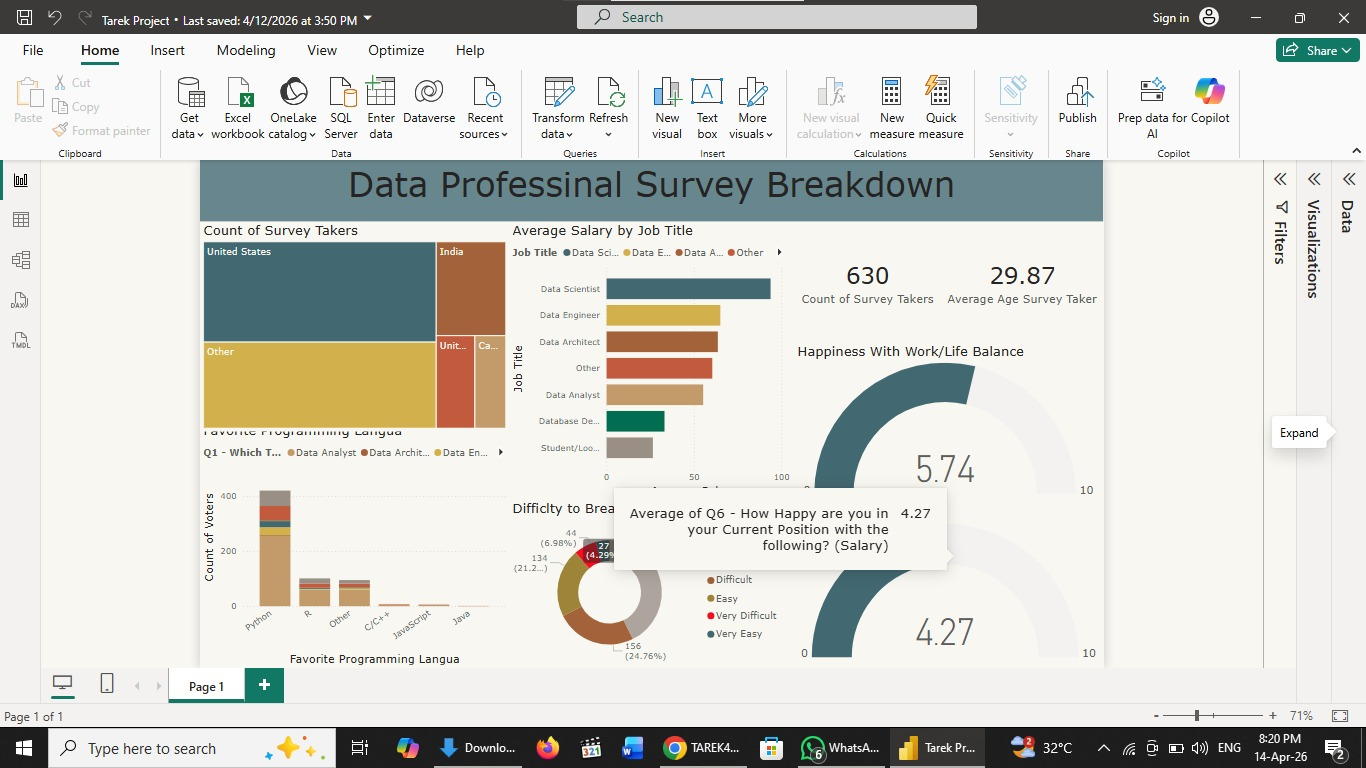

What the dashboard file says about the page in this screenshot:
{"tool":"powerbi","page":{"name":"Page 1","canvas":[1280,720],"ordinal":0},"visuals":[{"type":"textbox","box":[0,0,1280,87.3],"z":0},{"type":"card","fields":{"Values":["Count(Data Professional Survey.Unique ID)"]},"box":[841.6,87.3,208.3,171.3],"z":1000},{"type":"card","fields":{"Values":["Avg(Data Professional Survey.Q10 - Current Age)"]},"box":[1049.9,87.3,230.1,171.3],"z":2000},{"type":"barChart","title":"Average Salary by Job Title","fields":{"Category":["Data Professional Survey.Q1 - Which Title Best Fits your Current Role?.1"],"Y":["Avg(Data Professional Survey.Average Salary)"],"Series":["Data Professional Survey.Q1 - Which Title Best Fits your Current Role?.1"]},"box":[438.4,87.3,403.1,394.8],"z":3000},{"type":"columnChart","title":"Favorite Programming Langua","fields":{"Category":["Data Professional Survey.Q5 - Favorite Programming Language.1"],"Y":["CountNonNull(Data Professional Survey.Unique ID)"],"Series":["Data Professional Survey.Q1 - Which Title Best Fits your Current Role?.1"]},"box":[0,371.2,438.4,349.4],"z":4000},{"type":"treemap","title":"Count of Survey Takers","fields":{"Group":["Data Professional Survey.Q11 - Which Country do you live in?.1"],"Values":["CountNonNull(Data Professional Survey.Q11 - Which Country do you live in?.1)"]},"box":[0,87.3,438.4,297.3],"z":5000},{"type":"gauge","title":" Happiness with Salary","fields":{"Y":["Avg(Data Professional Survey.Q6 - How Happy are you in your Current Position with the following? (Salary))"],"MinValue":["Min(Data Professional Survey.Q6 - How Happy are you in your Current Position with the following? (Salary))"],"MaxValue":["Max(Data Professional Survey.Q6 - How Happy are you in your Current Position with the following? (Salary))"]},"box":[841.6,482.1,438.4,238.5],"z":6000},{"type":"gauge","title":" Happiness With Work/Life Balance","fields":{"Y":["Avg(Data Professional Survey.Q6 - How Happy are you in your Current Position with the following? (Work/Life Balance))"],"MinValue":["Min(Data Professional Survey.Q6 - How Happy are you in your Current Position with the following? (Work/Life Balance))"],"MaxValue":["Max(Data Professional Survey.Q6 - How Happy are you in your Current Position with the following? (Work/Life Balance))"]},"box":[841.6,258.7,438.4,223.4],"z":7000},{"type":"donutChart","title":"Difficlty to Break Data","fields":{"Series":["Data Professional Survey.Q7 - How difficult was it for you to break into Data?"],"Y":["CountNonNull(Data Professional Survey.Q7 - How difficult was it for you to break into Data?)"],"Category":["Data Professional Survey.Q7 - How difficult was it for you to break into Data?"]},"box":[438.4,482.1,403.1,238.5],"z":8000}]}

Visuals, with their boxes on the page's 1280x720 design canvas (x1, y1, x2, y2). These are canvas units, not pixel positions in the 1366x768 screenshot, which may show the page scaled, cropped or inside an application window:
textbox: (left=0, top=0, right=1280, bottom=87)
card - Count(Data Professional Survey.Unique ID): (left=842, top=87, right=1050, bottom=259)
card - Avg(Data Professional Survey.Q10 - Current Age): (left=1050, top=87, right=1280, bottom=259)
"Average Salary by Job Title" barChart: (left=438, top=87, right=842, bottom=482)
"Favorite Programming Langua" columnChart: (left=0, top=371, right=438, bottom=721)
"Count of Survey Takers" treemap: (left=0, top=87, right=438, bottom=385)
" Happiness with Salary" gauge: (left=842, top=482, right=1280, bottom=721)
" Happiness With Work/Life Balance" gauge: (left=842, top=259, right=1280, bottom=482)
"Difficlty to Break Data" donutChart: (left=438, top=482, right=842, bottom=721)
